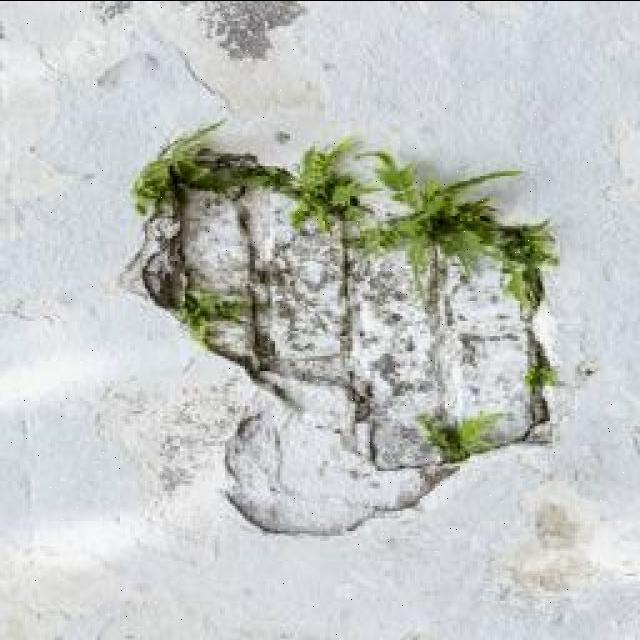crack: (3, 482, 632, 640), (291, 5, 640, 179), (0, 150, 120, 316), (98, 1, 256, 83), (3, 510, 156, 584), (153, 141, 199, 330), (2, 125, 85, 213), (136, 479, 231, 554), (229, 51, 329, 121), (35, 21, 119, 87), (2, 28, 63, 117), (83, 49, 181, 101), (35, 134, 106, 178)
vegetation: (139, 135, 616, 455), (358, 154, 539, 299), (131, 120, 286, 217), (284, 138, 379, 232), (170, 279, 259, 350), (356, 200, 430, 264), (396, 175, 463, 238), (133, 153, 186, 215), (368, 150, 423, 200)
